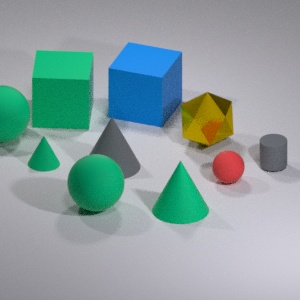lapphuong: (100, 39, 183, 127), (28, 47, 92, 132)
lucgiac: (180, 91, 242, 143)
non: (153, 156, 211, 230), (25, 134, 60, 171)
tron: (64, 152, 124, 211), (0, 82, 35, 146), (209, 147, 247, 188)
tru: (258, 127, 289, 177)
